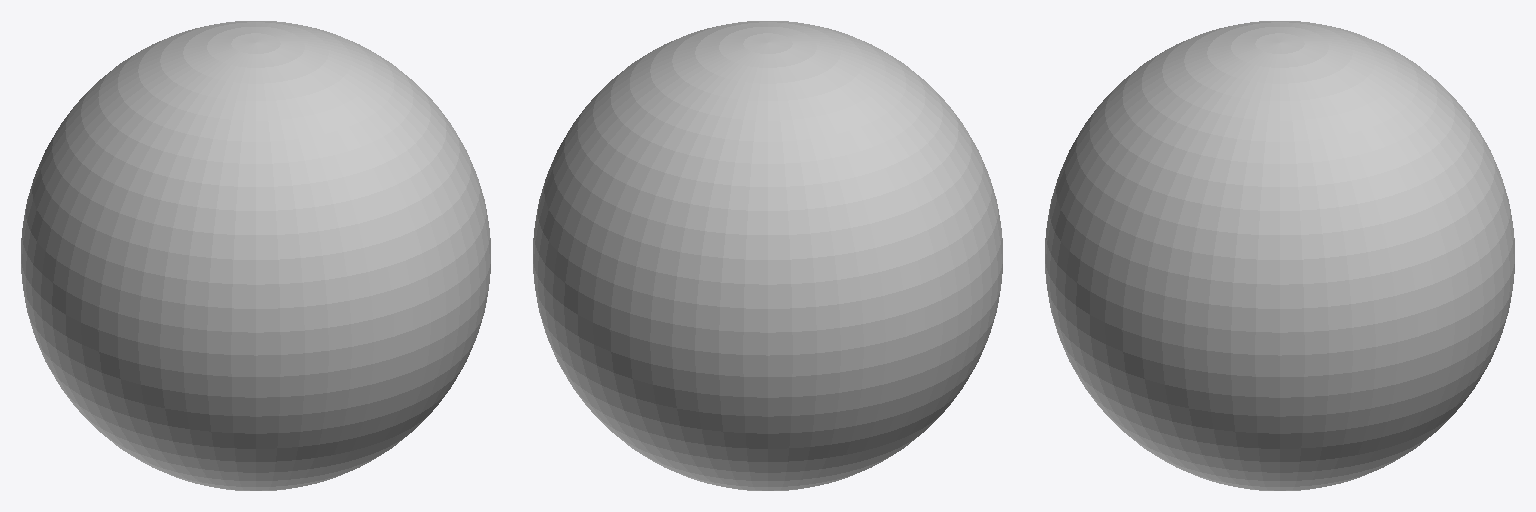
File: Planet.obj
The picture shows the model from 3 angles: view 1: azimuth 30°, elevation 25°; view 2: azimuth 150°, elevation 25°; view 3: azimuth 270°, elevation 25°; orthographic projection.
Visible parts, largest first — view 1: Sphere002; view 2: Sphere002; view 3: Sphere002.
Boxes of the visible parts, <box> form: Sphere002: <box>21,21,490,490</box>; Sphere002: <box>533,21,1002,490</box>; Sphere002: <box>1045,21,1514,490</box>.
Bounding box in the file's own units: 69.82 × 69.82 × 69.82.